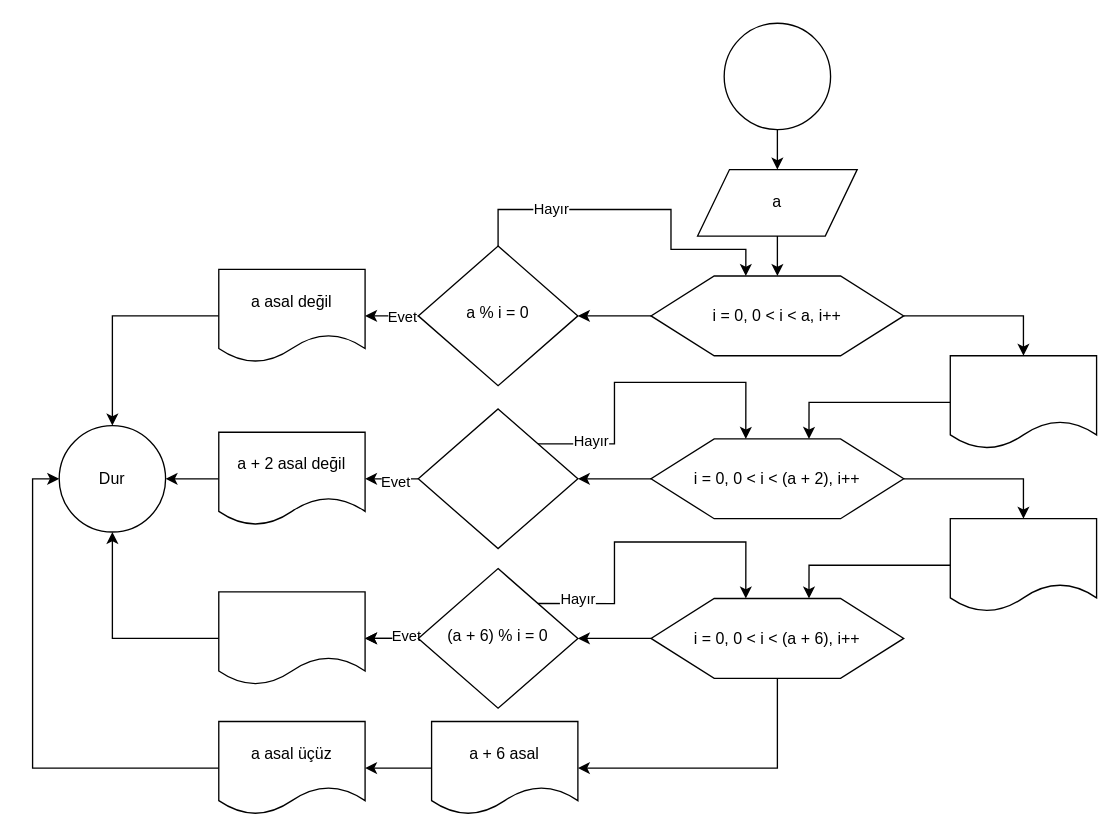
The diagram is 1120 pixels wide and 838 high, and some of its shapes have lost their labels. The shapes that lost their labels are listed below. From the top down, each one's centre as x and y in pixels, then its label:
At [777,76]: "Başla".
At [1023,401]: "a asal".
At [497,478]: "(a + 2) % i = 0".
At [1023,564]: "a + 2 asal".
At [291,638]: "a + 6 asal değil".
